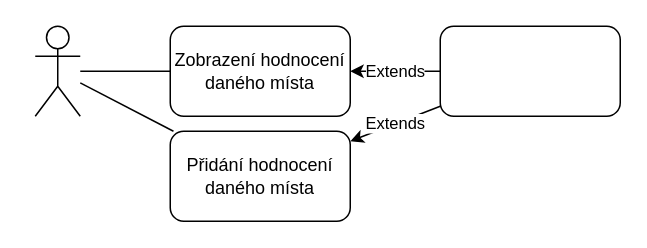
Some shapes in this 647 by 248 pixel diagram are drawn without their labels. Each missing label, with the box of its shape:
Uživatel: (34, 25, 80, 116)
Zobrazení detailních informací o daném místě: (439, 25, 620, 116)
